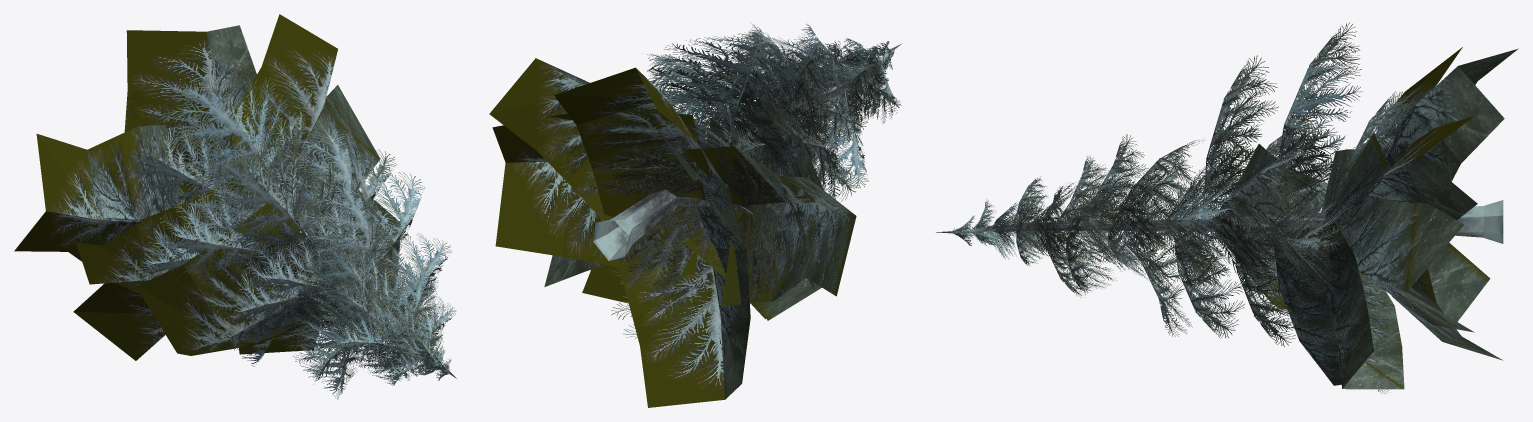
The model's file is huodong_fuben_421_rsshulin_shu08.obj.
3 views of the same model, side by side, from view 1: azimuth 30°, elevation 25°; view 2: azimuth 150°, elevation 25°; view 3: azimuth 270°, elevation 25° (orthographic). The views are drawn at different scales.
Visible parts, largest first — view 1: huodong_fuben_421_rsshulin_shu08; view 2: huodong_fuben_421_rsshulin_shu08; view 3: huodong_fuben_421_rsshulin_shu08.
Boxes of the visible parts, left/top/right/bottom form: huodong_fuben_421_rsshulin_shu08: left=14, top=14, right=456, bottom=399; huodong_fuben_421_rsshulin_shu08: left=489, top=24, right=901, bottom=407; huodong_fuben_421_rsshulin_shu08: left=936, top=22, right=1518, bottom=393.
Bounding box in the file's own units: 197 × 186 × 279.
Materials: 6 (6 with a texture image).
